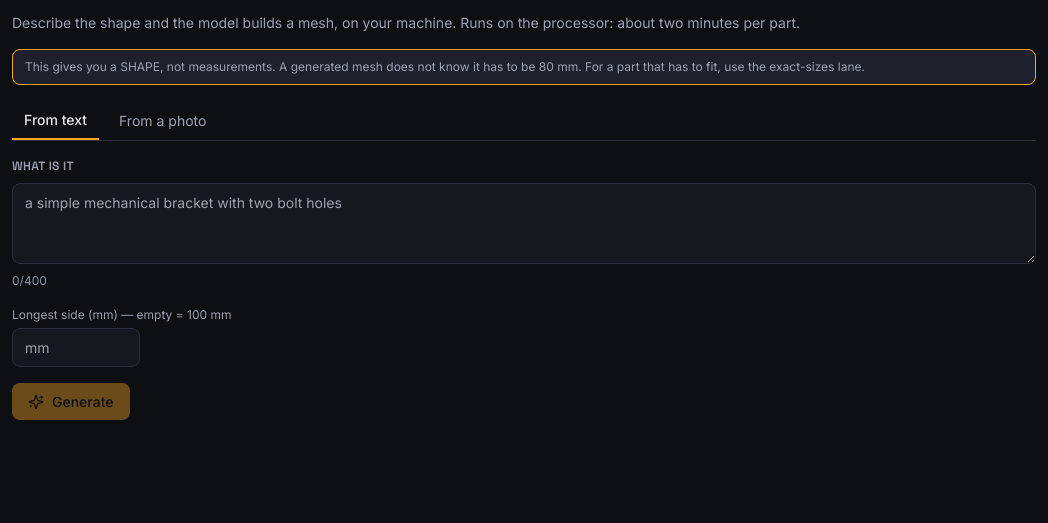
Scenario: MeshGenerator › surfaces a refusal from the server instead of staying silent
Type "algo" into the text box. click: (524, 224)
box: [12,183,1036,264]
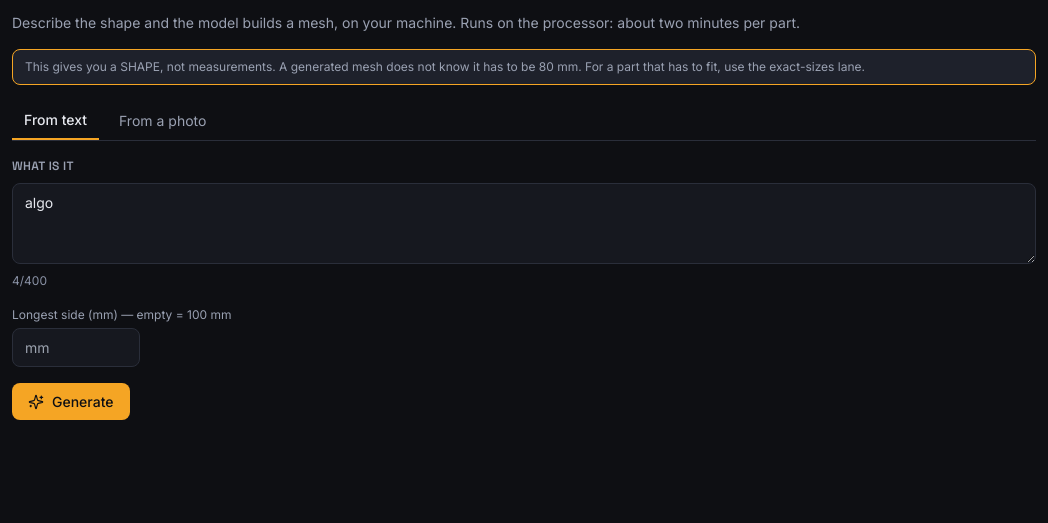
Click the button "Generate". click: (71, 402)
box: [12,383,130,420]
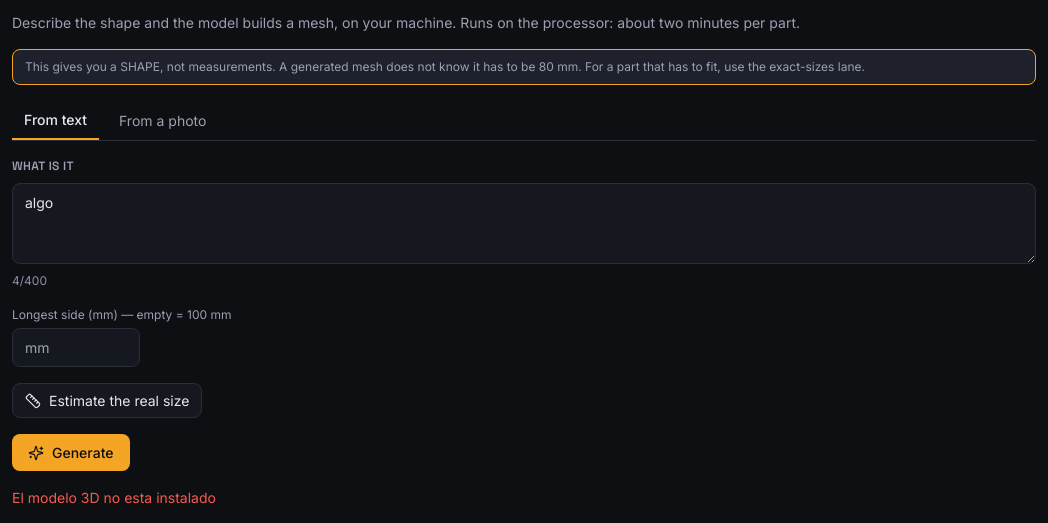
Expected: the message shows "no esta instalado", [12,489,216,506]
